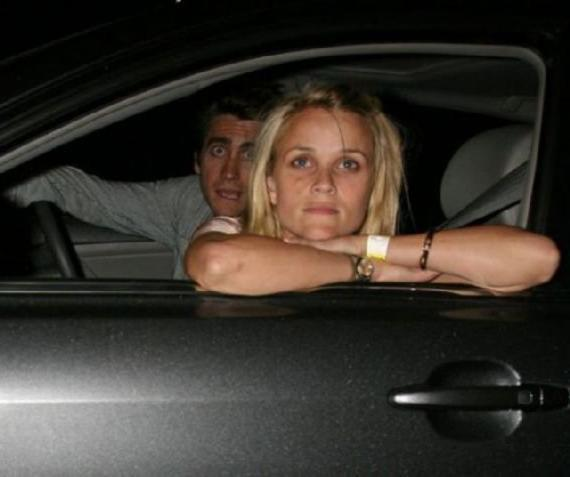Drunk: (283, 109, 369, 237), (202, 119, 259, 213)
